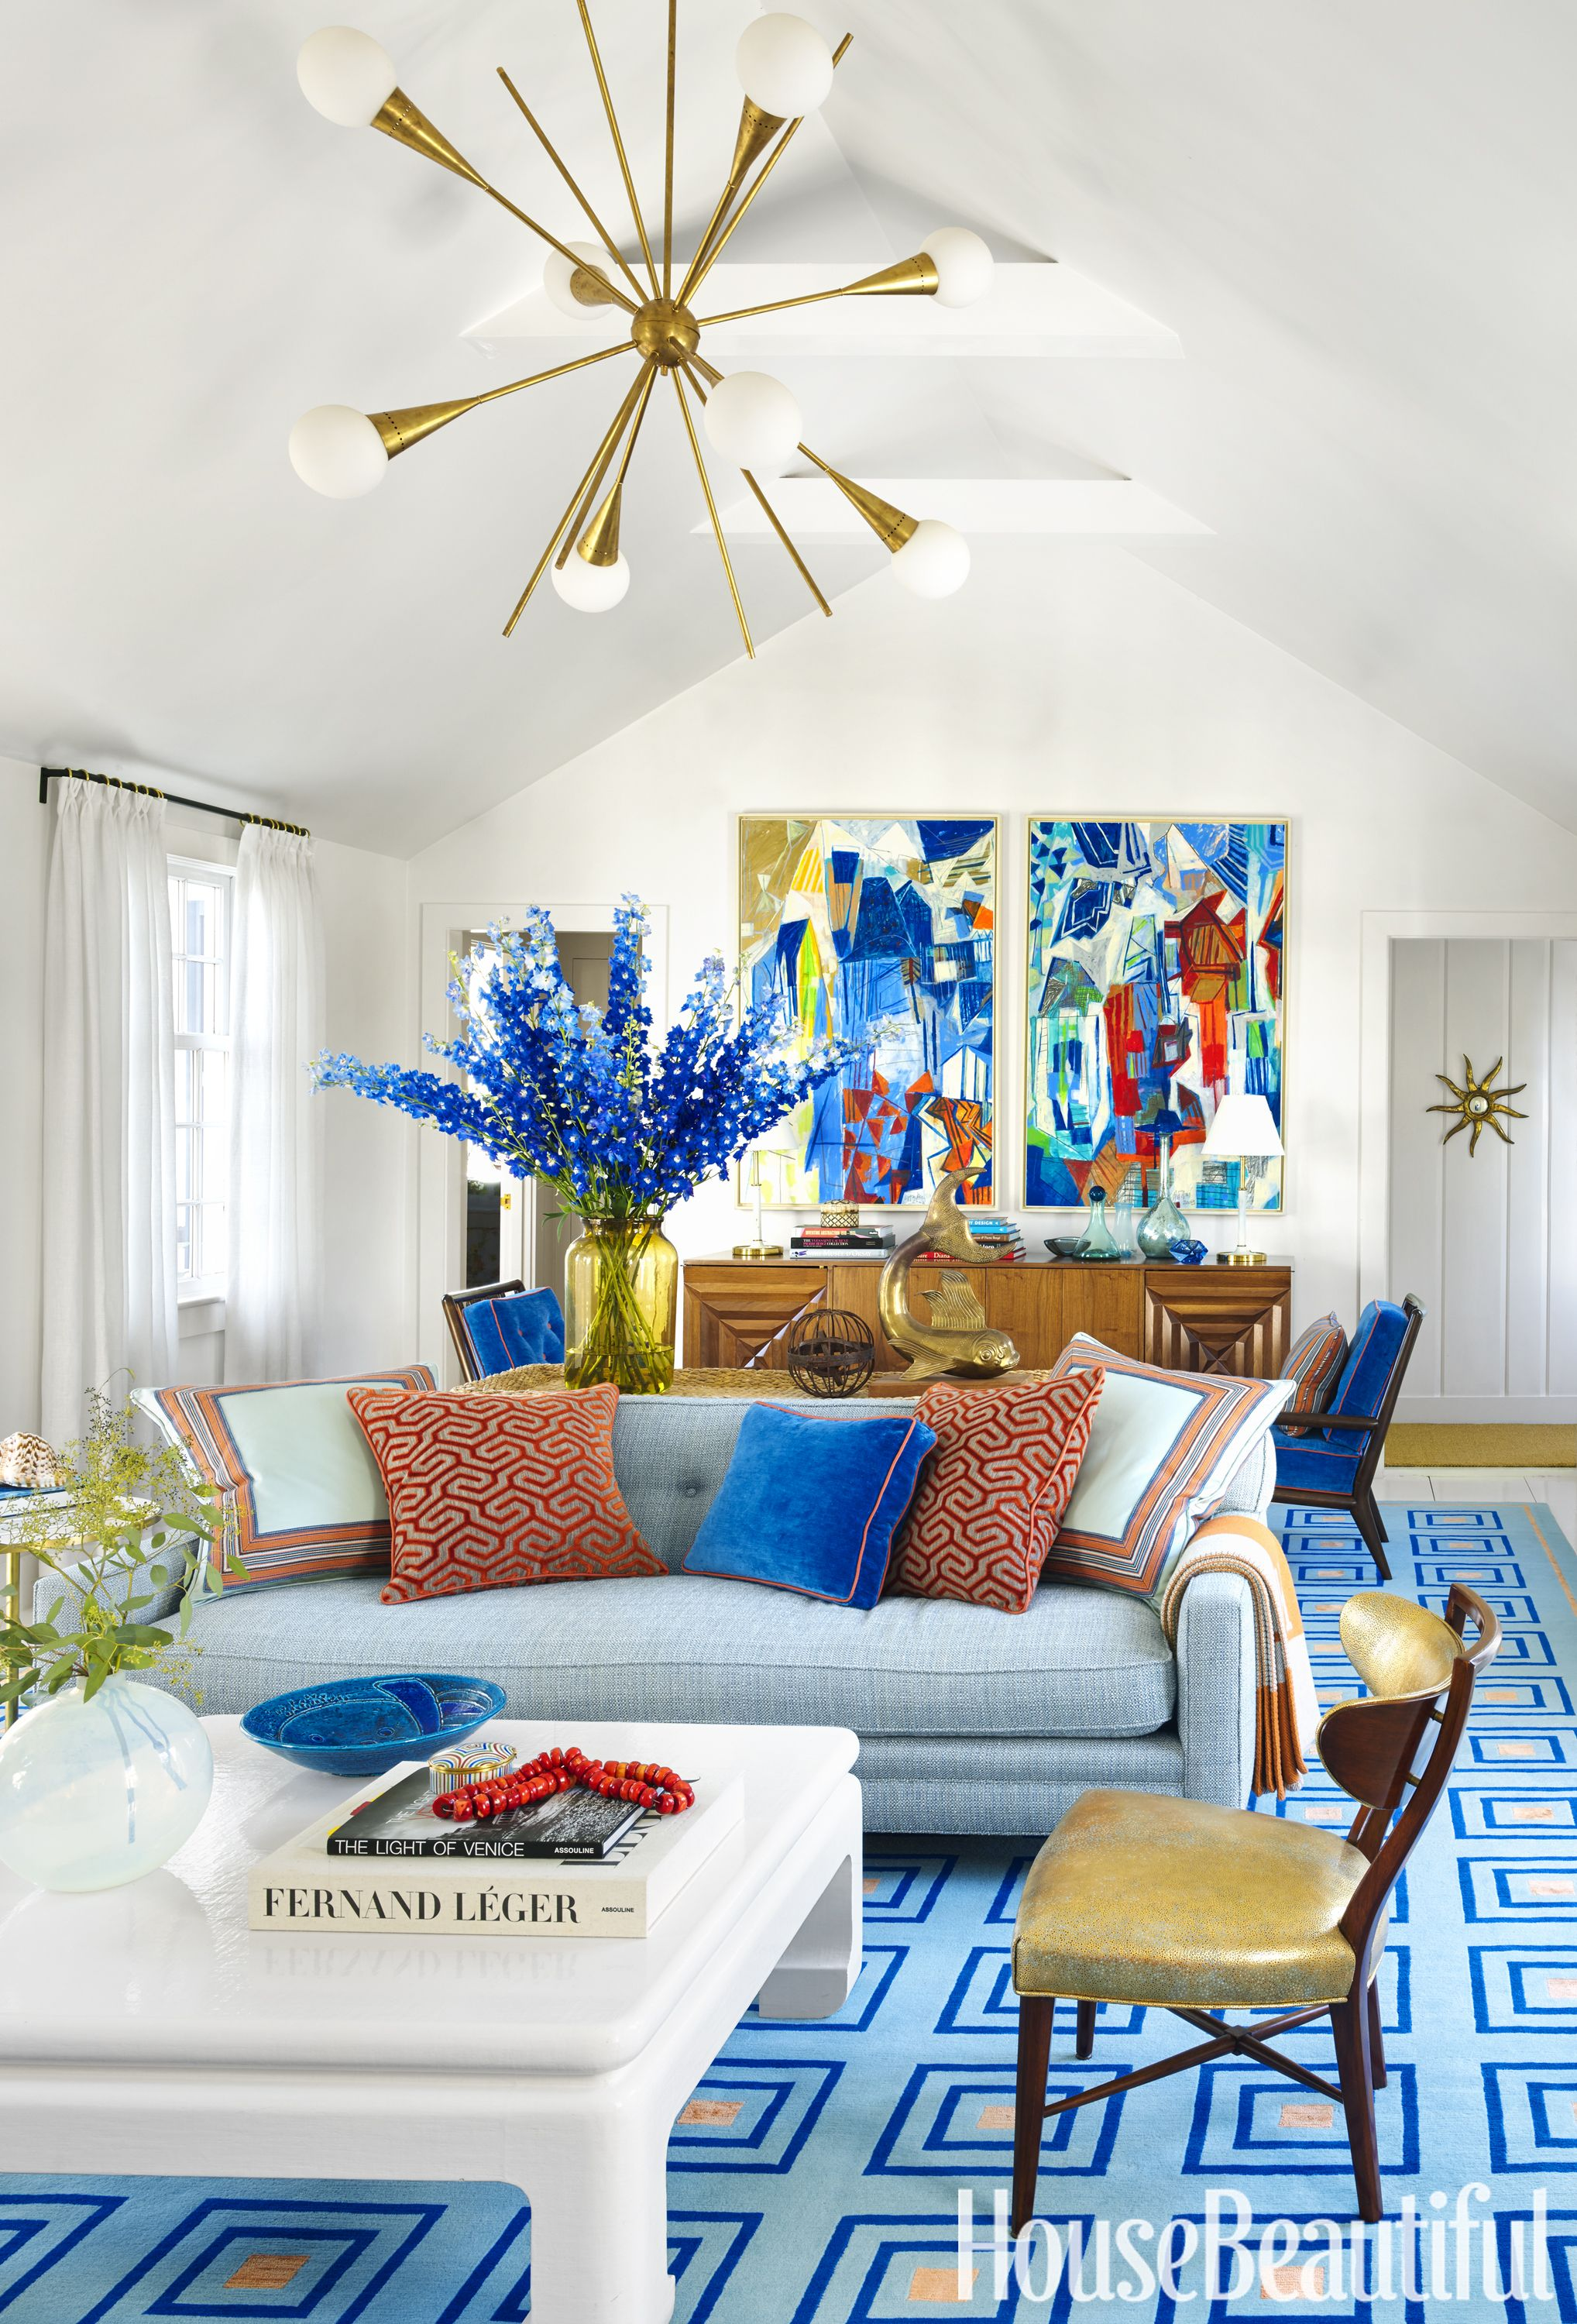biru: (702, 1405, 892, 1597), (252, 1664, 486, 1764), (477, 1292, 561, 1366)
putih: (0, 1720, 869, 2317), (0, 1687, 202, 1894)
